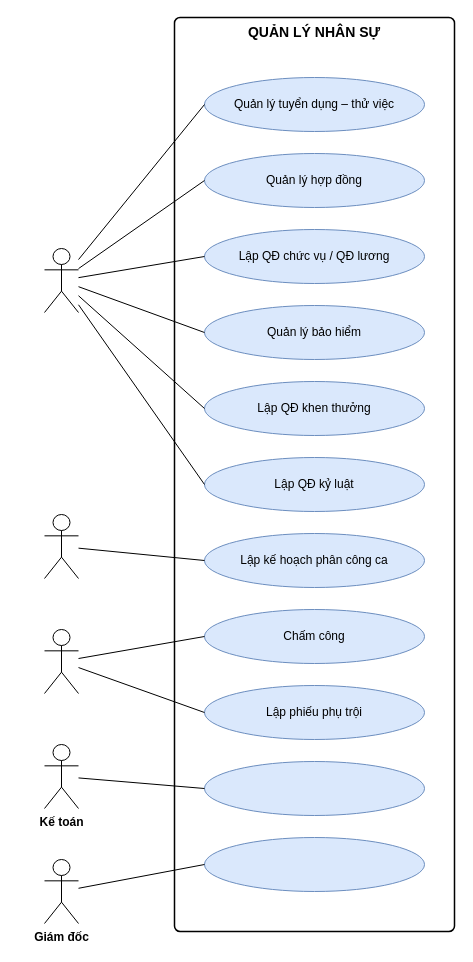
This 473x962 diagram has some shape labels left out. The centre of each missing label's shape, as x and y in pixels:
Ban chấm công: the point at 61,661
Duyệt quyết định: the point at 314,864
Phòng nhân sự: the point at 61,280
Trưởng phòng: the point at 61,546
Tính lương tháng: the point at 314,788
